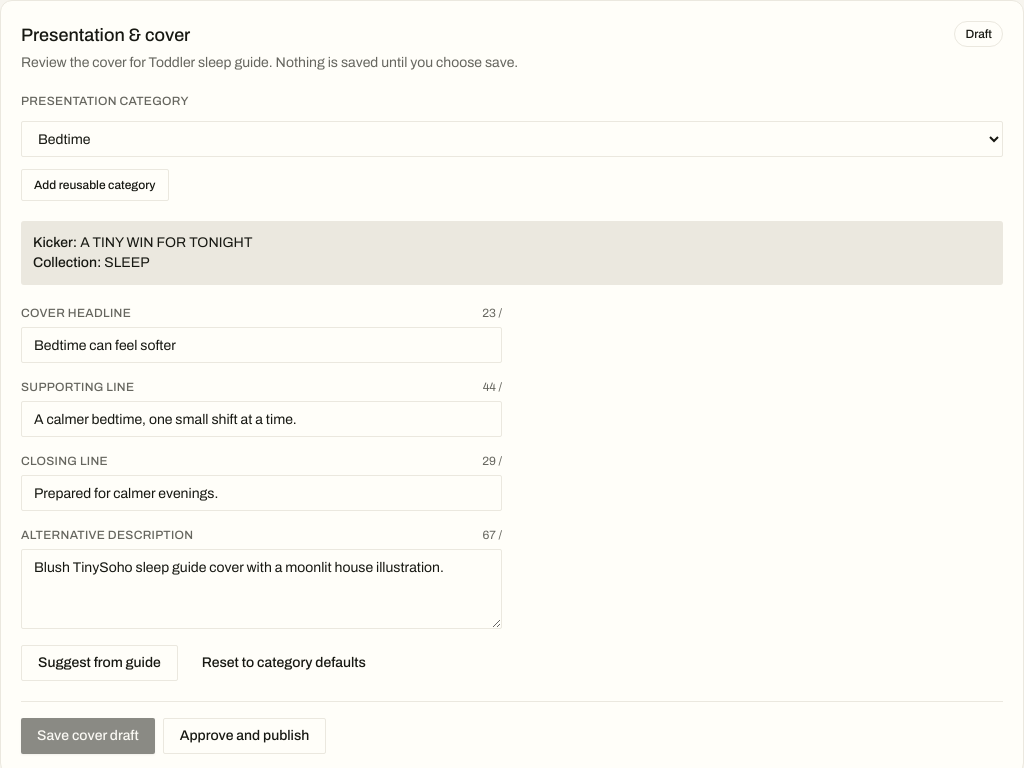
Scenario: GuideCoverPanel approval and publication › shows Approved after an unknown publish is canonically still approved
What coordinates should you click on to do the following:
click the button "Approve and publish"
I would click on:
 (244, 736)
Its box is [163,718,326,754].
(page scrolled)
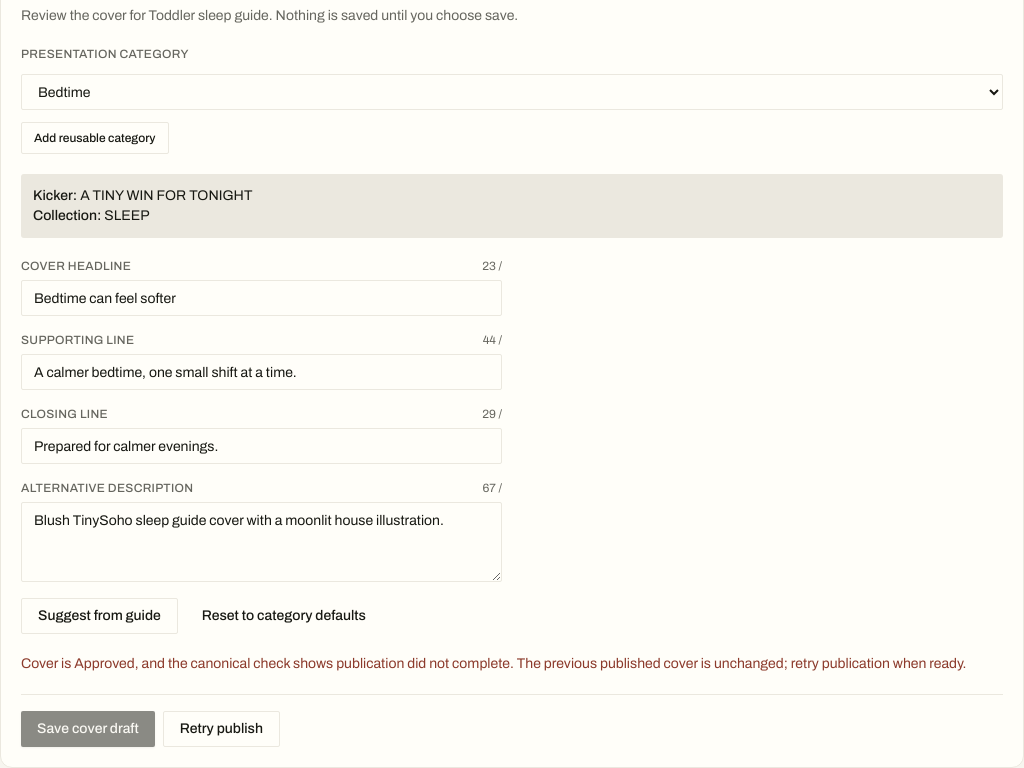
Expected: the button "Retry publish" is enabled, [163,711,280,747]
Now the message shows "publication did not complete", box [21,656,966,671]
